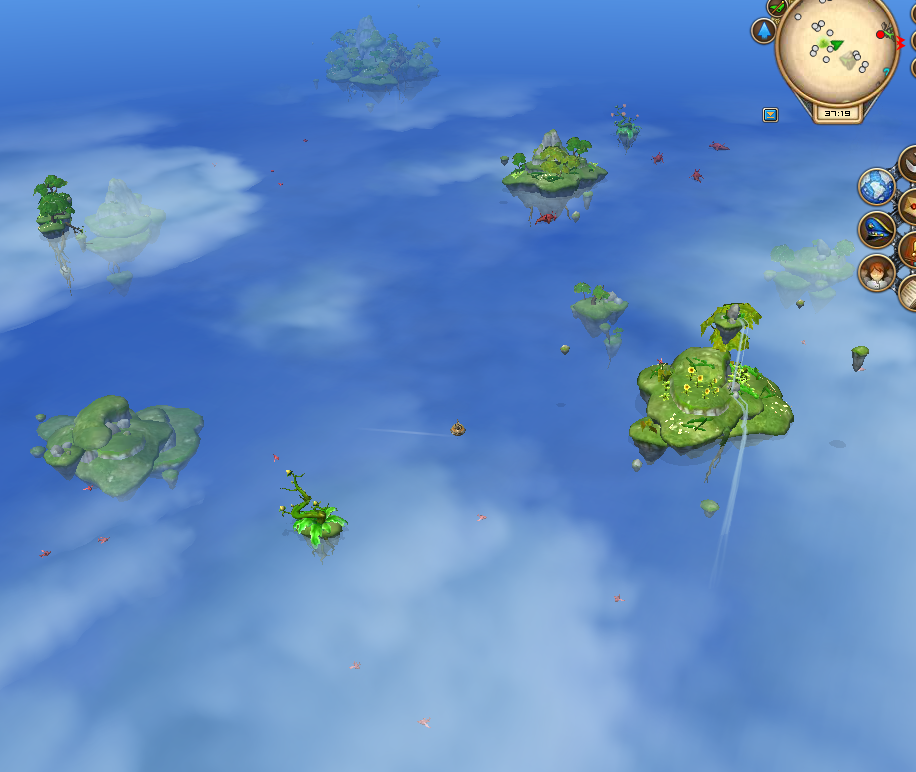dandelion-empty: (275, 465, 350, 559)
dandelion-full: (611, 101, 643, 150)
